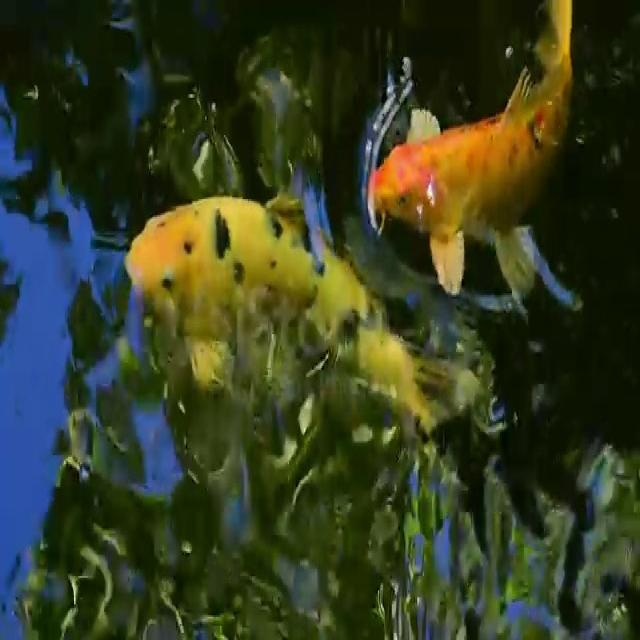fish: (115, 186, 486, 500), (362, 0, 591, 312)
